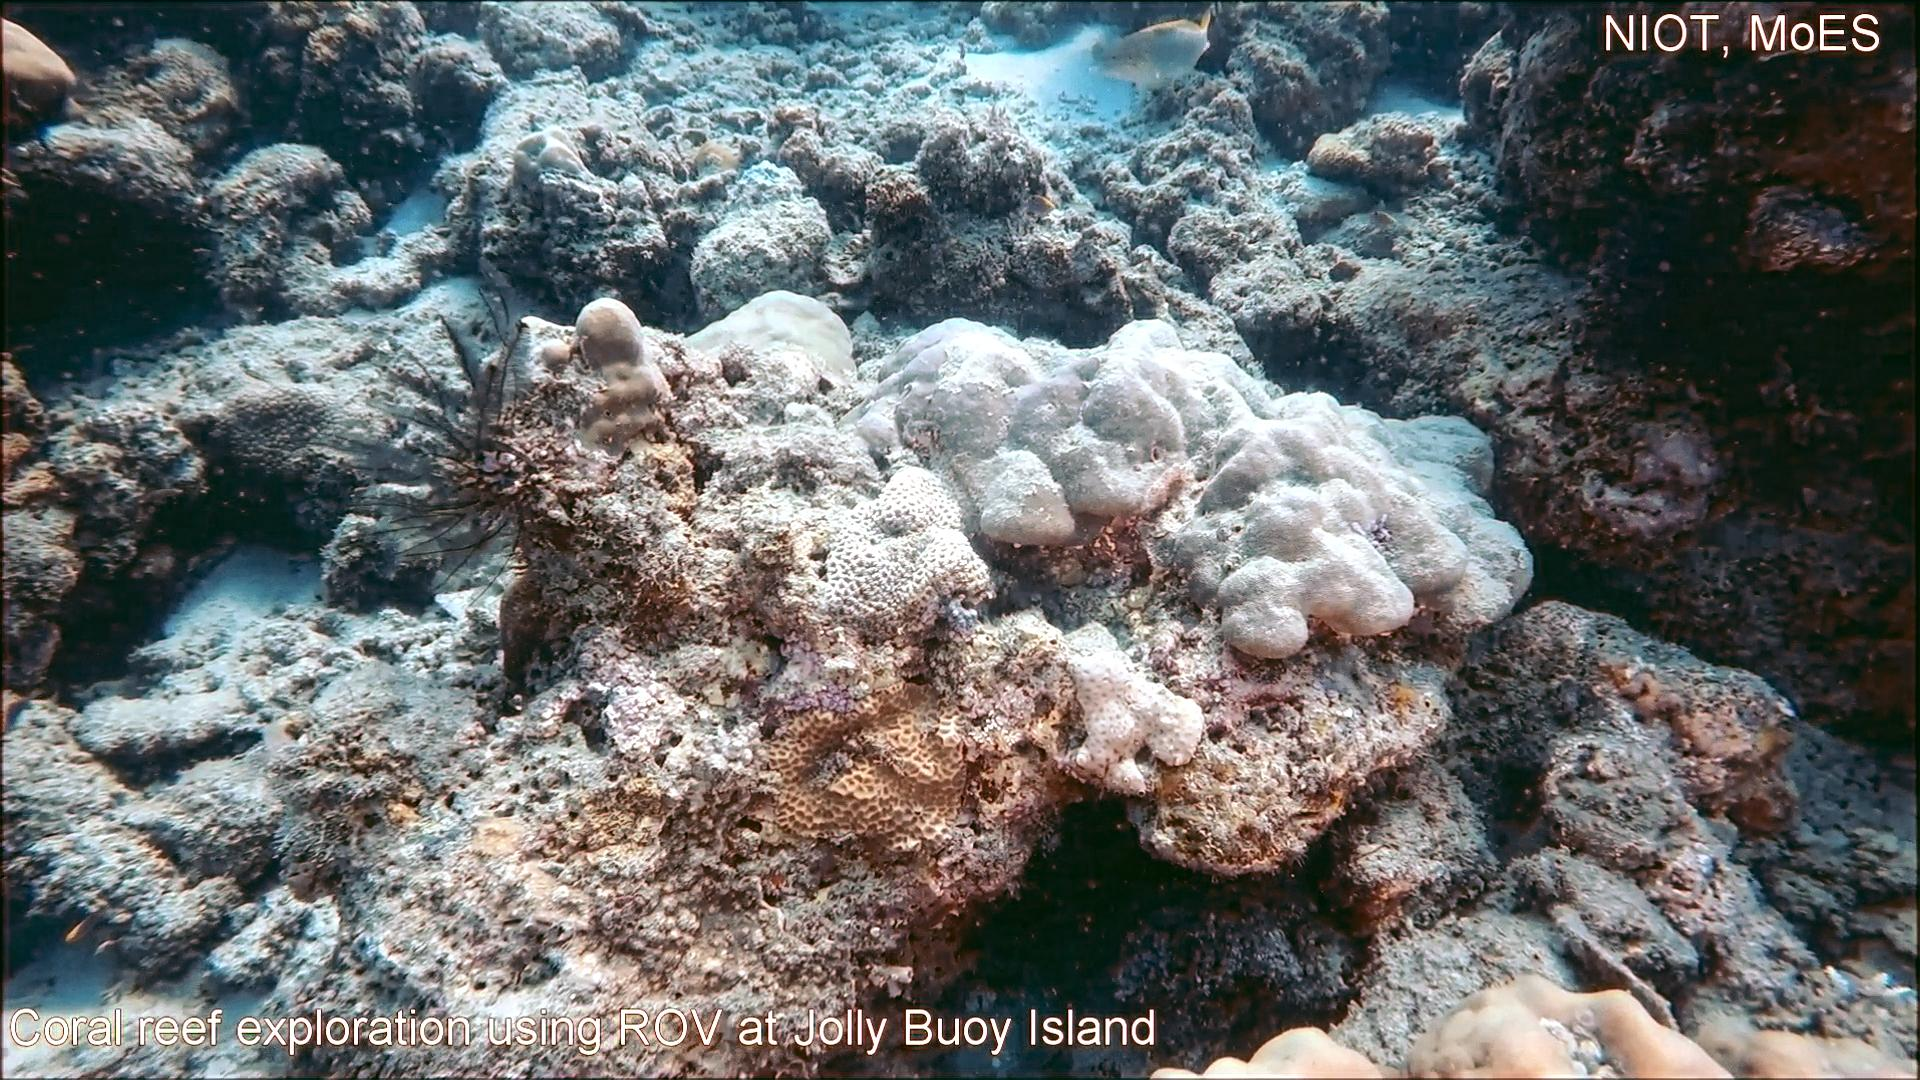Favites-Favites vasta: (760, 676, 976, 874)
Feather star-Crinoid star: (338, 248, 546, 628)
Goniastrea-Goniastrea pectinata: (816, 456, 1002, 645)
Porites-Porites pukoensis: (1076, 313, 1539, 665)
Turbinaria-Turbinaria stellulata: (174, 380, 339, 497)
